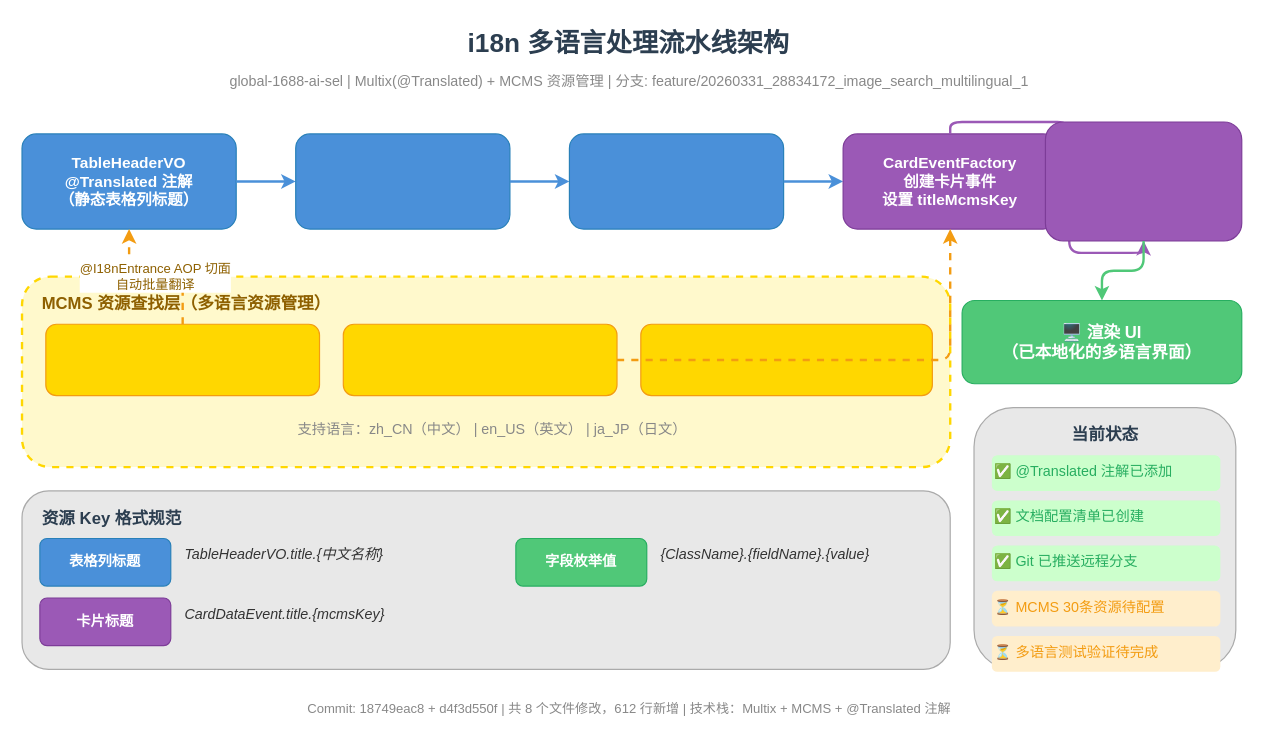
Image size: 1263x737. Some labels were removed from this diagram. Each missing label, with the centre of its shape:
ImprovedReviewTag ListCardEvent HandlerStrategy （策略处理器）: [1143,181]
TableConfig 构建表格配置 （26 个字段元数据）: [402,181]
TableDataVOConverter 数据转换处理 （VO 格式转换）: [676,181]
卡片标题（4个） CardDataEvent.title.reviewTagList → Review Tag List: [479,359]
字段枚举值 ReviewTagAggregateVO.sentimentTypeName.好评 → Good review: [786,359]
表格列标题（26个） TableHeaderVO.title.{中文名}: [182,359]
